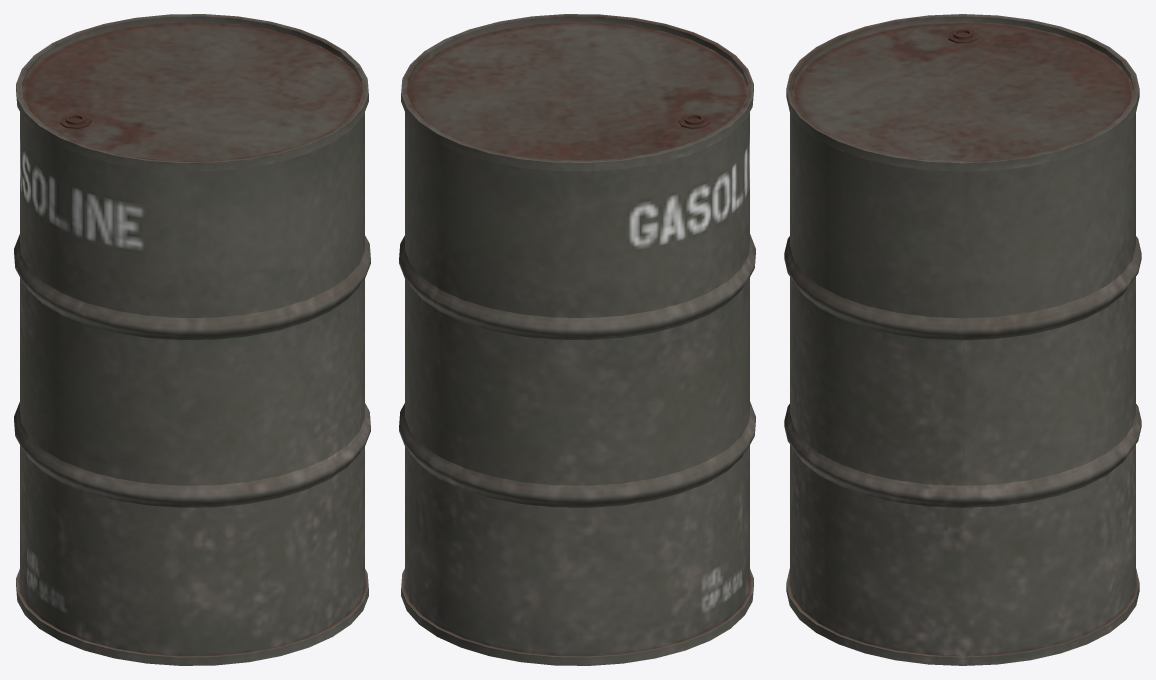
Rendered from SM_Barrel_1_Gasoline.fbx.
The picture shows the model from 3 angles, left to right: view 1: azimuth 30°, elevation 25°; view 2: azimuth 150°, elevation 25°; view 3: azimuth 270°, elevation 25°; orthographic projection.
Parts seen in each view (by area): view 1: SM_Barrel_1_Gasoline_LOD0; view 2: SM_Barrel_1_Gasoline_LOD0; view 3: SM_Barrel_1_Gasoline_LOD0.
Boxes of the visible parts, x1,y1,x2,y2 form: SM_Barrel_1_Gasoline_LOD0: (14, 14, 370, 665); SM_Barrel_1_Gasoline_LOD0: (399, 14, 755, 665); SM_Barrel_1_Gasoline_LOD0: (784, 14, 1141, 665).
Size of the model in its own units: 69.6 by 69.6 by 108.
Materials: 1 (1 with a texture image).
